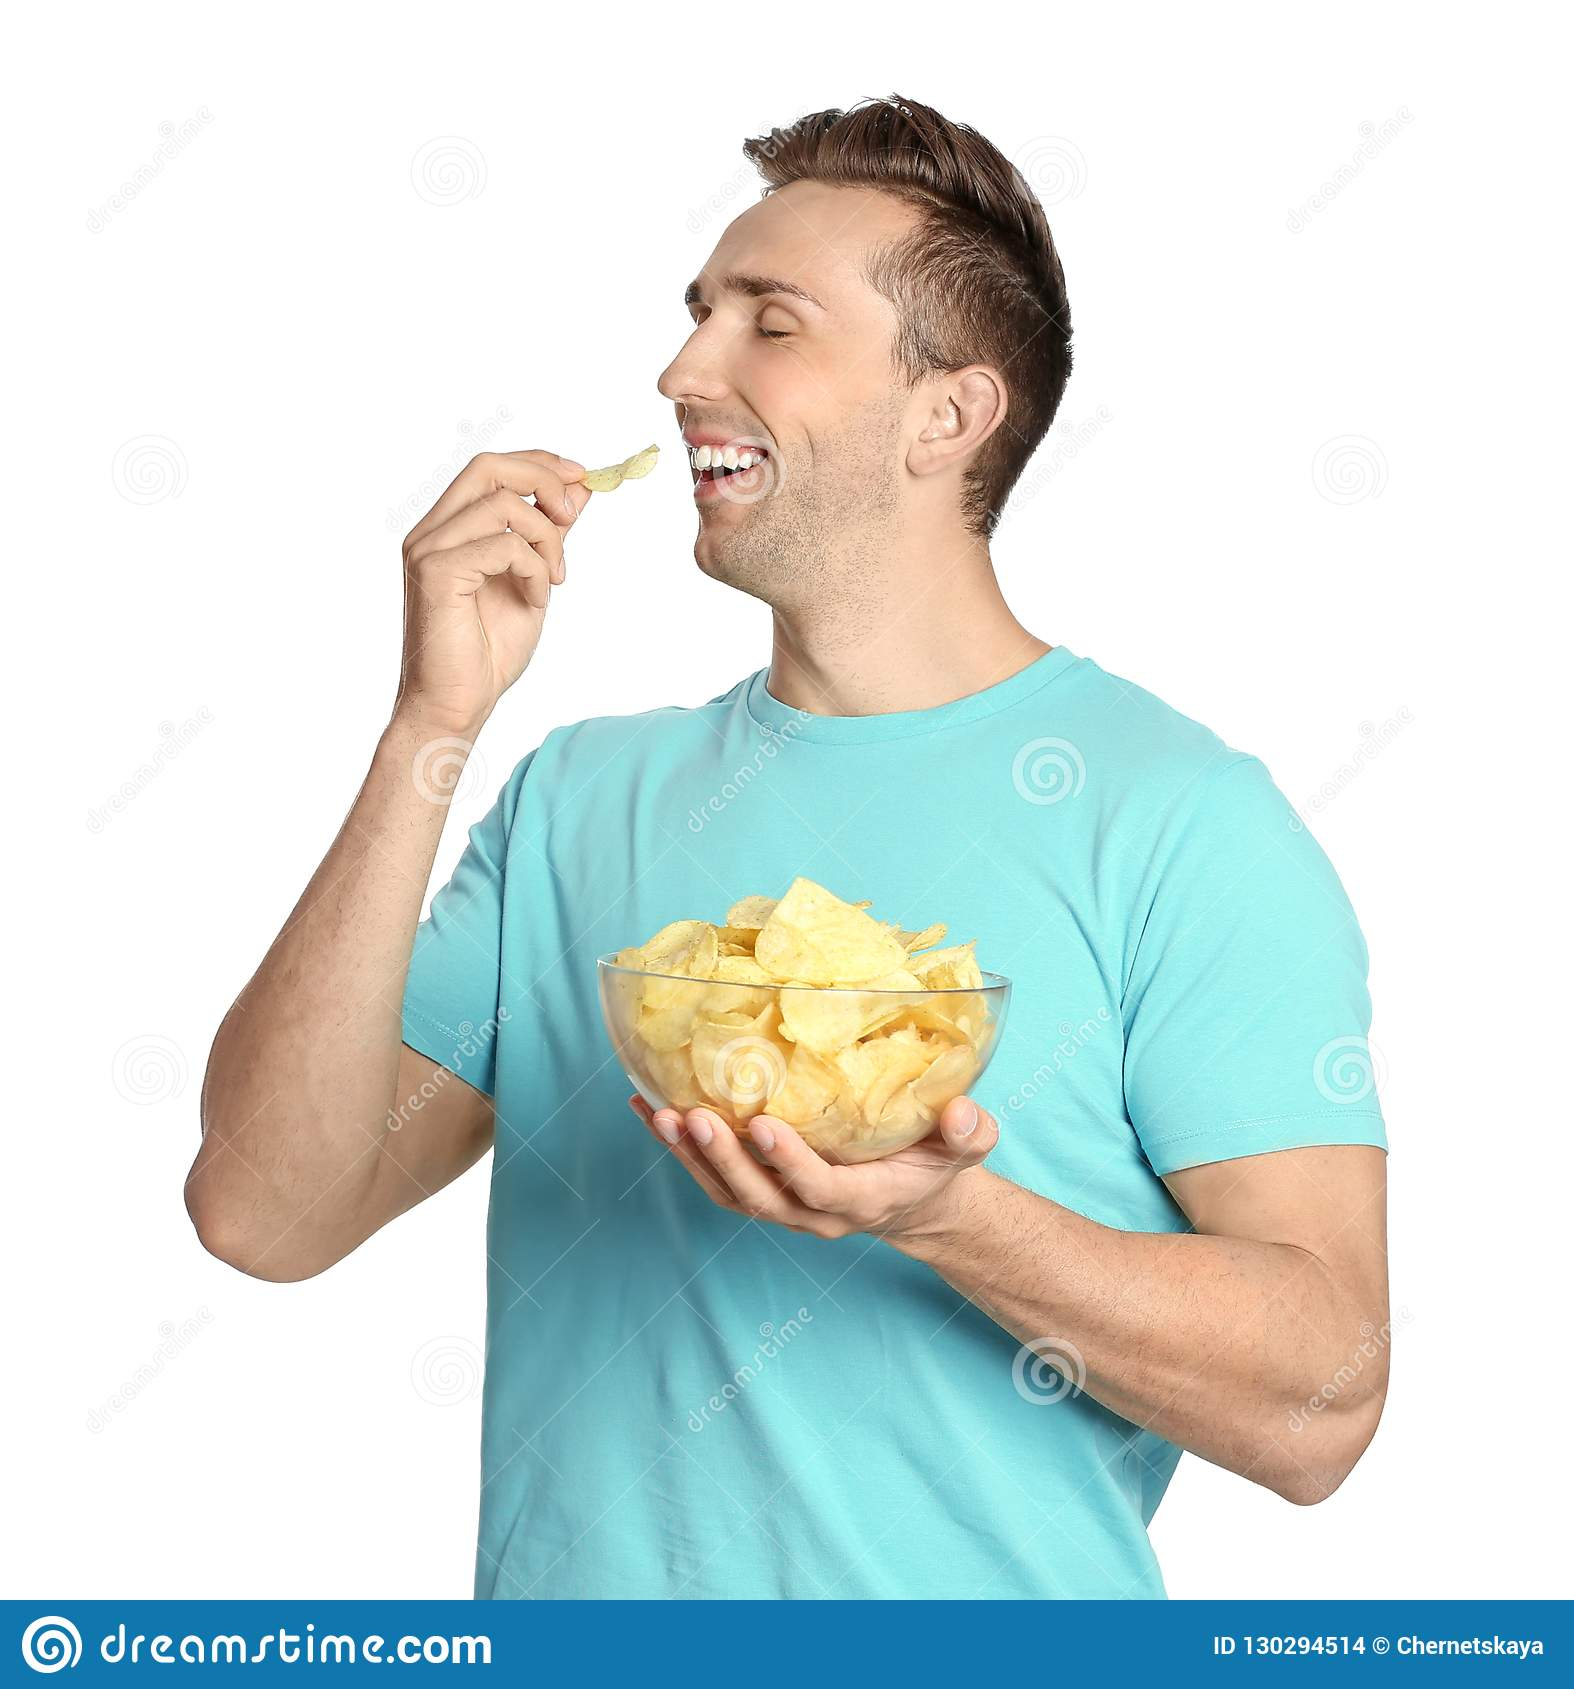eating: (299, 59, 1249, 893)
